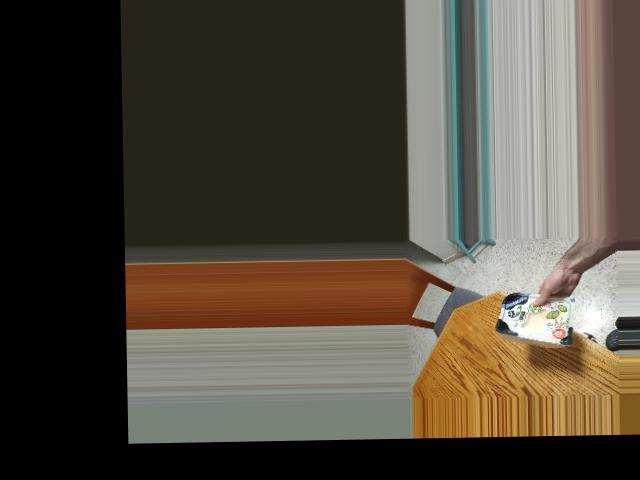cheese: (493, 288, 580, 338)
